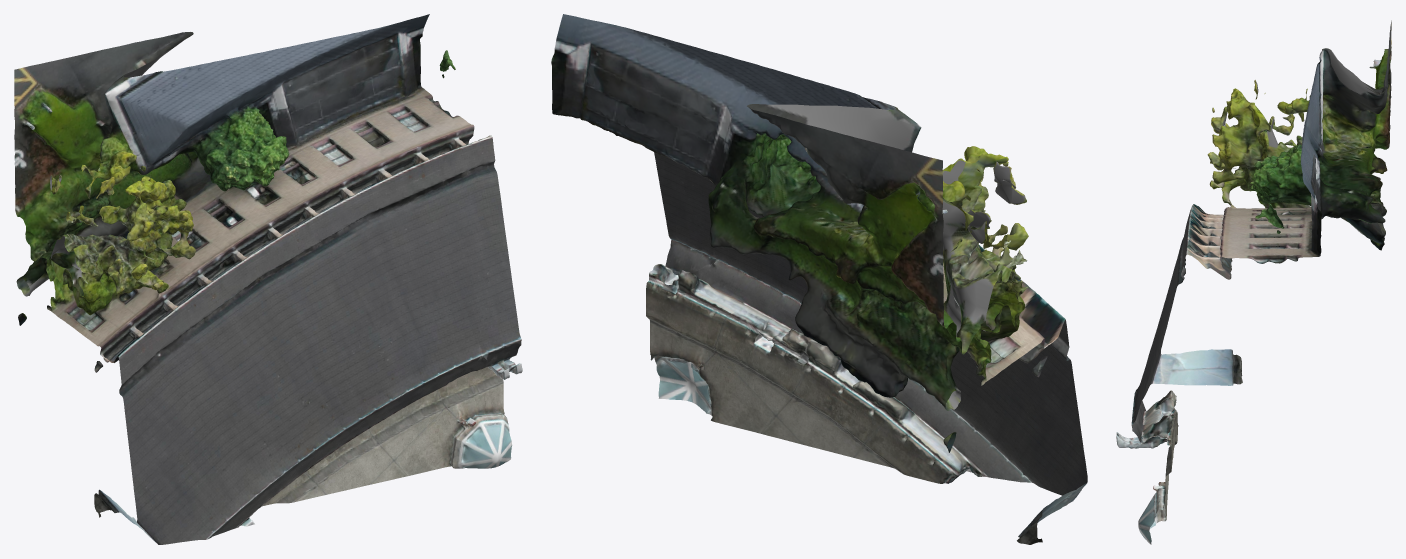
Rendered from Tile_+007_+027.fbx.
3 views of the same model, side by side, from view 1: azimuth 30°, elevation 25°; view 2: azimuth 150°, elevation 25°; view 3: azimuth 270°, elevation 25° (orthographic). The views are drawn at different scales.
Visible parts, largest first — view 1: DefaultName; view 2: DefaultName; view 3: DefaultName.
Part boxes in pixels (x1,y1,x2,y2): DefaultName: (14, 14, 522, 544); DefaultName: (551, 14, 1087, 544); DefaultName: (1116, 20, 1391, 544).
Size of the model in its own units: 22.54 by 22.54 by 15.54.
